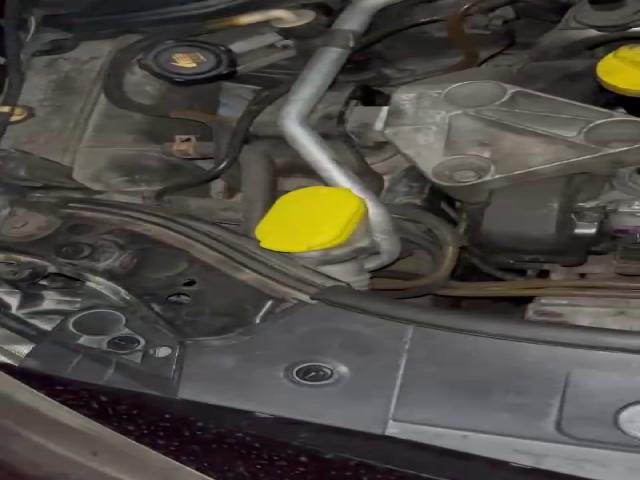antifreeze_tank: (4, 36, 238, 191)
